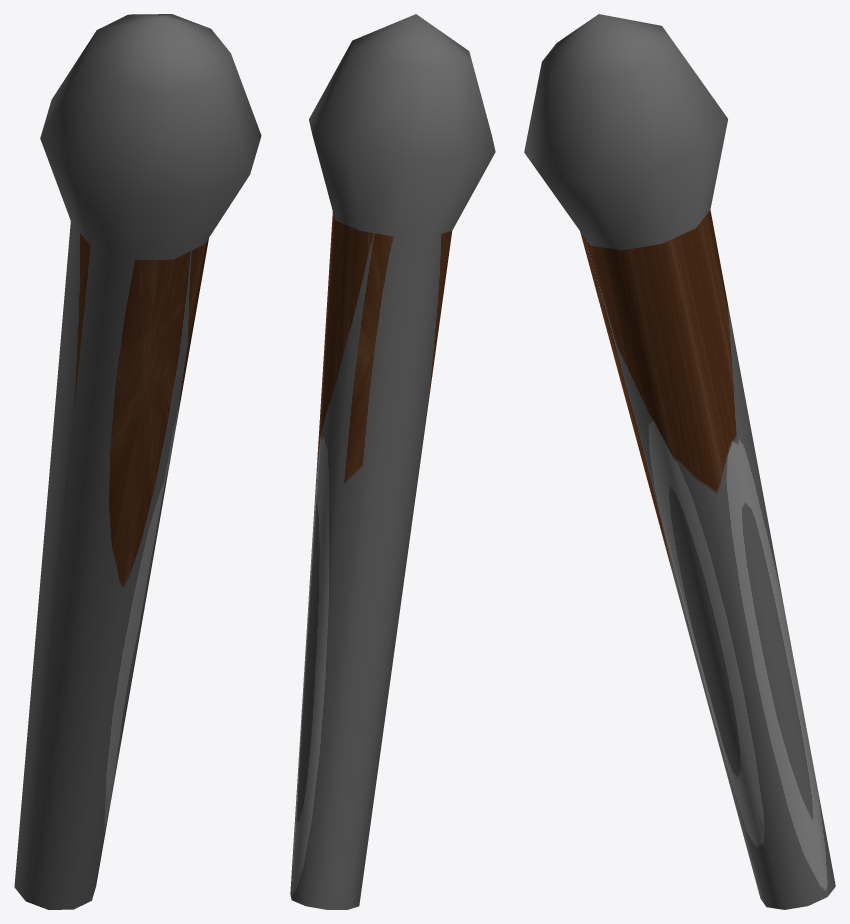
Rendered from Tocha.fbx.
3 renders of one model, left to right at view 1: azimuth 30°, elevation 25°; view 2: azimuth 150°, elevation 25°; view 3: azimuth 270°, elevation 25°, orthographic. The views are drawn at different scales.
Parts seen in each view (by area): view 1: pasted__pCylinder49; view 2: pasted__pCylinder49; view 3: pasted__pCylinder49.
Part boxes in pixels (left/top/right/bottom): pasted__pCylinder49: left=14, top=14, right=261, bottom=909; pasted__pCylinder49: left=290, top=14, right=495, bottom=909; pasted__pCylinder49: left=524, top=14, right=835, bottom=909.
Size of the model in its own units: 0.5447 by 2.64 by 0.8427.
